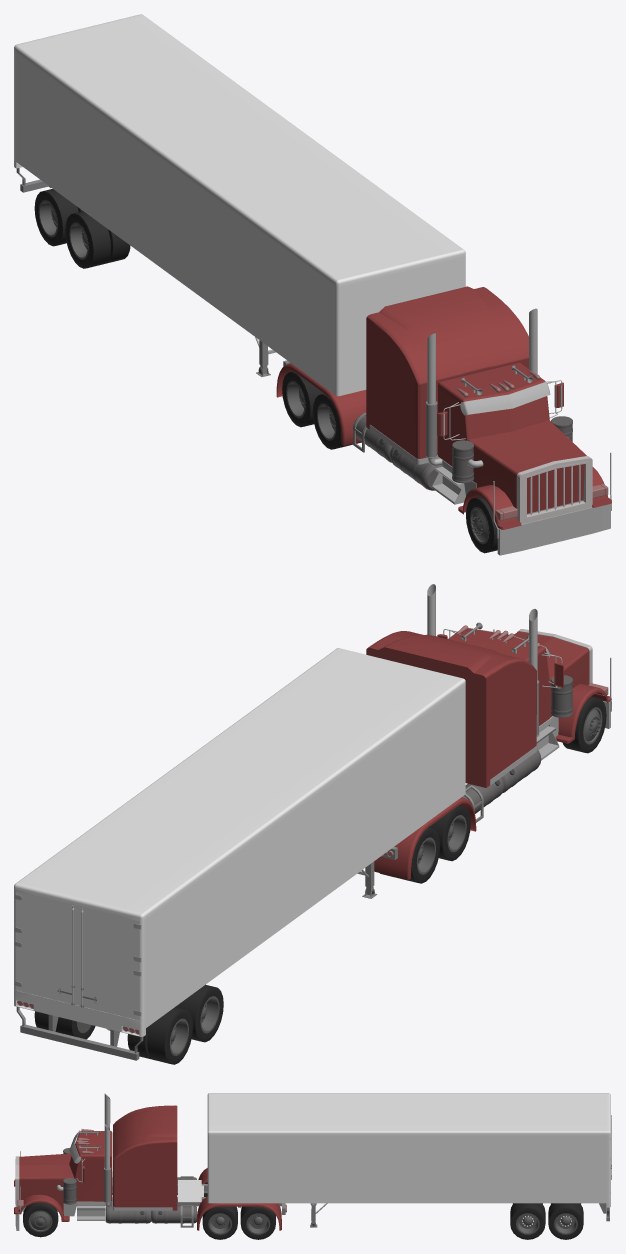
Rendered from Truck.fbx.
3 views of the same model, one above another, from view 1: azimuth 30°, elevation 25°; view 2: azimuth 150°, elevation 25°; view 3: azimuth 270°, elevation 25° (orthographic). The views are drawn at different scales.
Visible parts, largest first — view 1: BIGTRAAAACK; view 2: BIGTRAAAACK; view 3: BIGTRAAAACK.
Part boxes in pixels (box(x1,y1,x2,y2)): BIGTRAAAACK: box(14, 14, 611, 555); BIGTRAAAACK: box(14, 584, 611, 1064); BIGTRAAAACK: box(14, 1093, 611, 1239).
Size of the model in its own units: 8.64 by 11.05 by 53.8.
